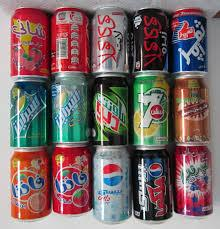Aluminum can: (4, 148, 54, 222), (90, 72, 133, 150), (88, 150, 134, 222), (168, 74, 218, 140), (50, 144, 93, 218), (170, 5, 216, 73), (6, 82, 50, 148), (175, 144, 213, 220), (92, 4, 131, 78), (11, 7, 48, 84), (134, 75, 172, 147), (132, 6, 172, 74), (135, 150, 172, 221), (52, 8, 90, 75), (52, 74, 90, 141)
